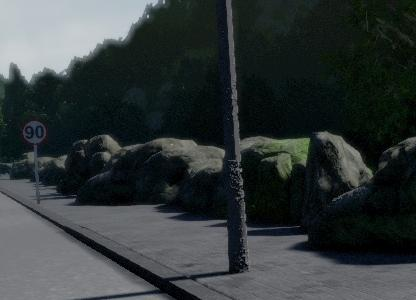Speed_90: (19, 116, 49, 148)
